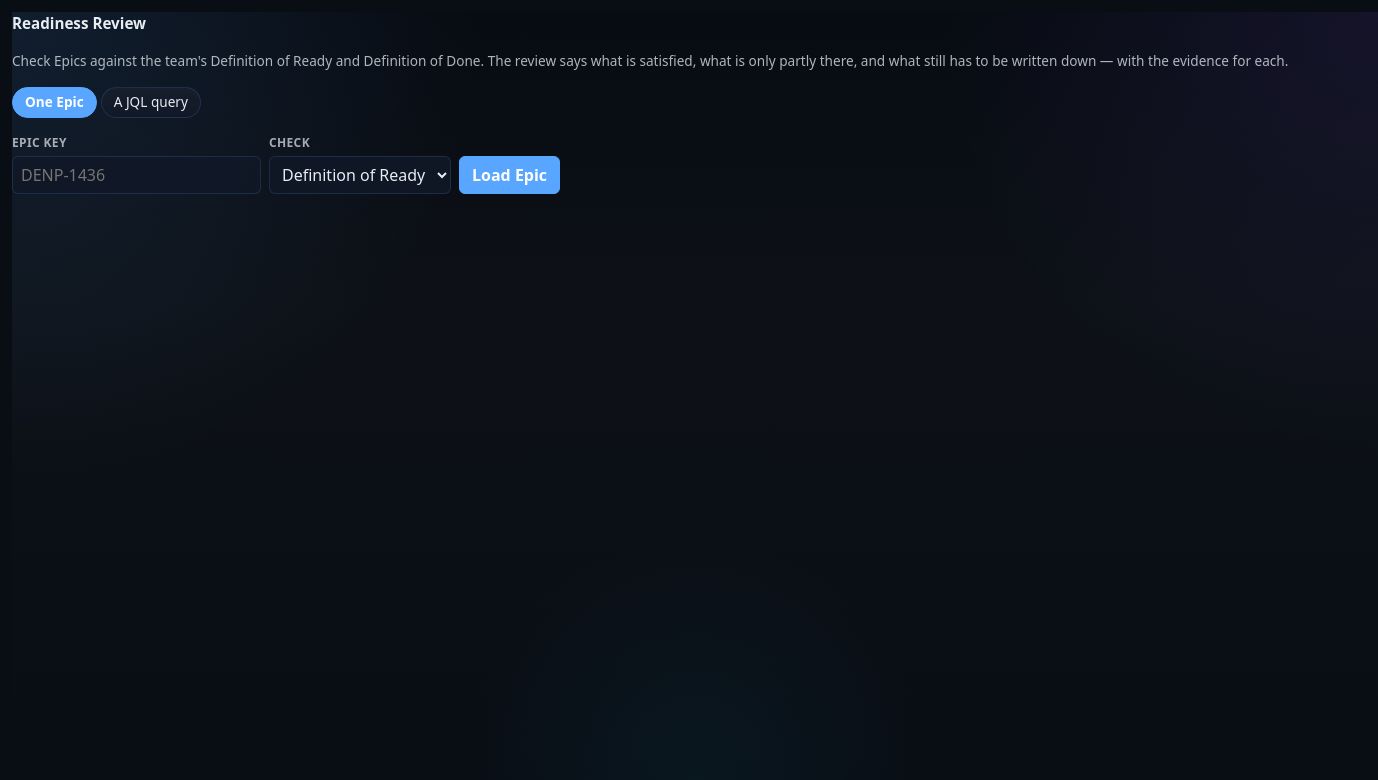
EpicChecklistTab › validates against the Epic’s own checklist when it can be read
In the field labelled "Epic key": (136, 175) [12,156,261,194], type "denp-1436"
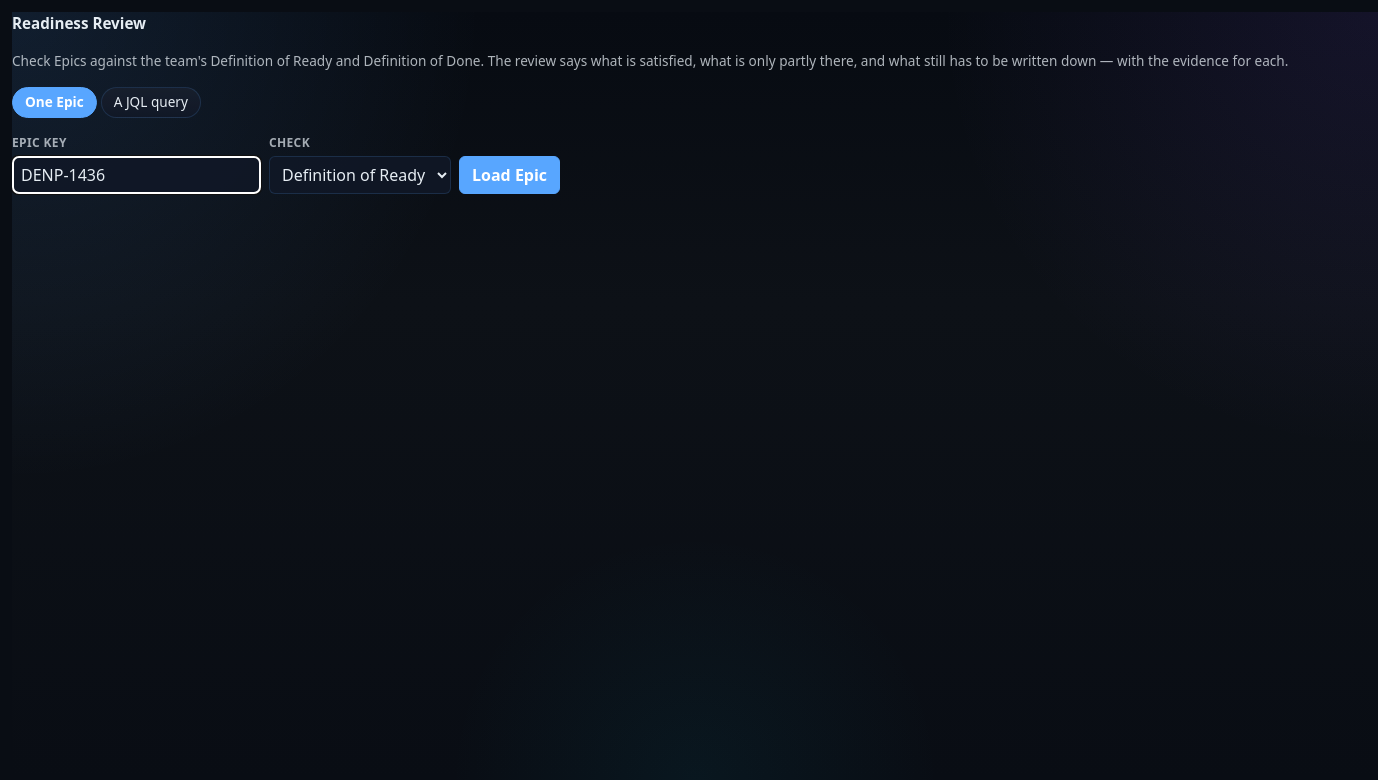
Click the button "Load Epic": (510, 175) [459,156,560,194]
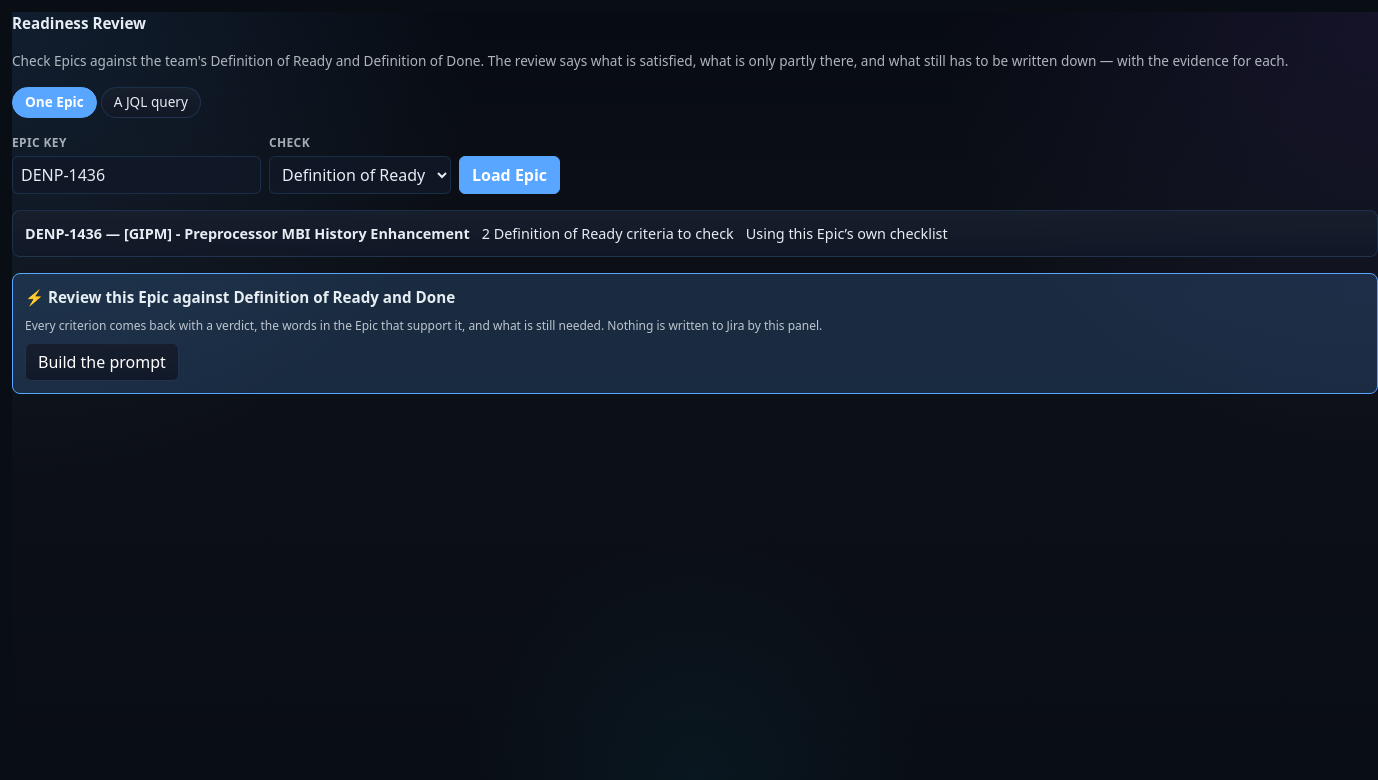
Now the text "DENP-1436 — [GIPM] - Preprocessor MBI History Enhancement" is shown, box [25,223,470,244]
Now the text "2 Definition of Ready criteria to check" is shown, box [482,223,734,244]
Now the text "Using this Epic’s own checklist" is shown, box [746,223,948,244]
